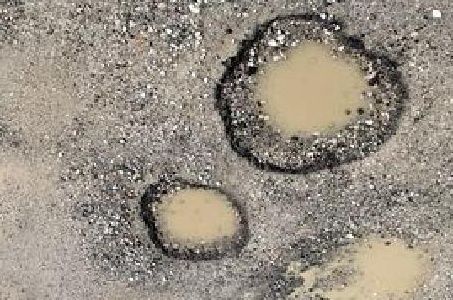pothole: (207, 9, 412, 178), (275, 226, 439, 300), (137, 179, 253, 264)
